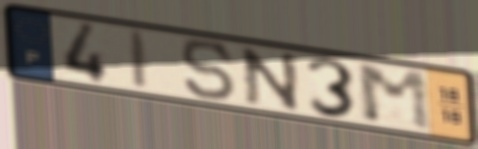3: (304, 56, 359, 121)
4: (59, 20, 110, 85)
I: (127, 28, 151, 93)
M: (353, 62, 437, 134)
N: (237, 45, 303, 114)
S: (178, 37, 239, 103)
